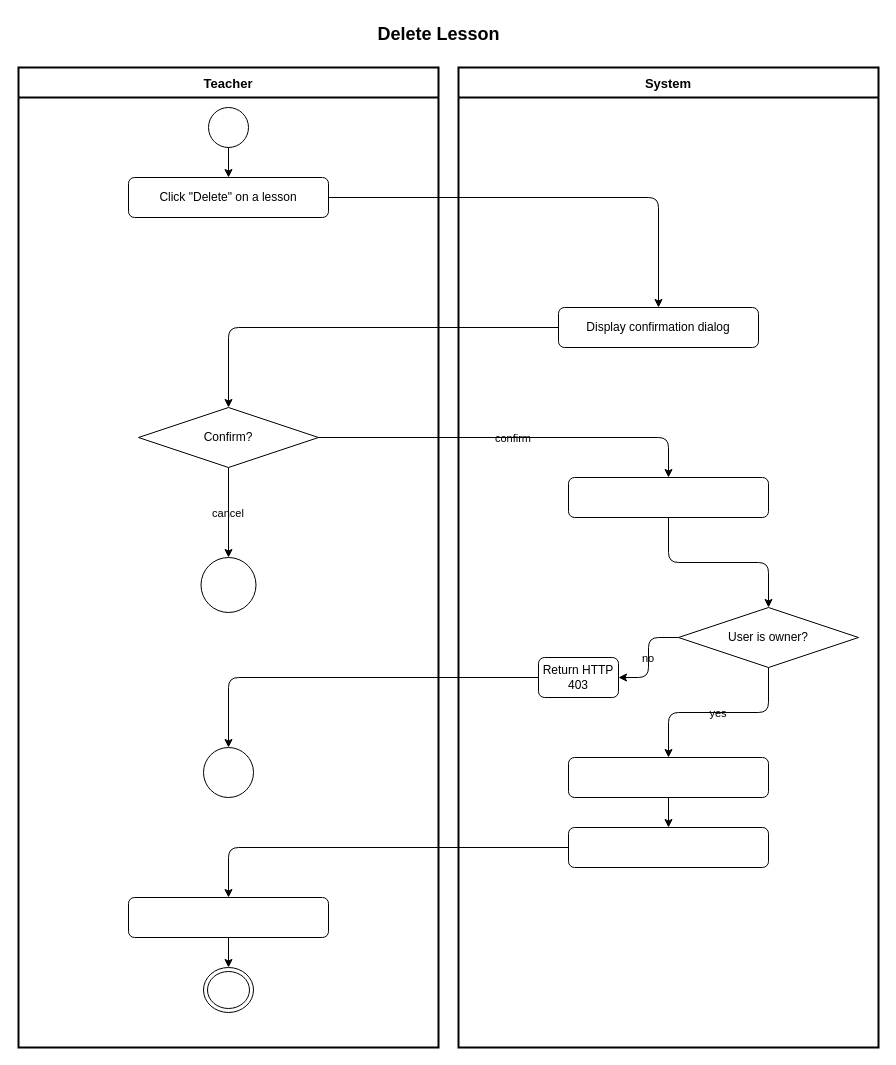
The diagram is 896 pixels wide and 1065 high, and some of its shapes have lost their labels. The shapes that lost their labels are listed below. From the top down, each one's box as (x1, y1, x2, y2) in pixels, then its label:
(568, 476, 768, 518): Check ownership
(568, 756, 768, 798): Delete Lesson record
(568, 826, 768, 868): Return HTTP 204
(128, 896, 328, 938): Lesson removed from topic item list
